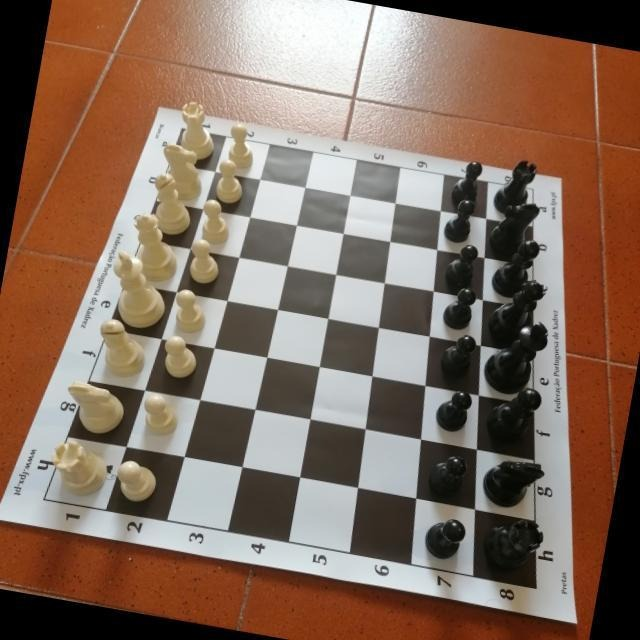black-bishop: (482, 380, 543, 447), (487, 233, 541, 303)
black-king: (479, 312, 551, 400)
black-knight: (478, 454, 546, 514), (486, 195, 541, 261)
black-pawn: (420, 513, 467, 562), (425, 451, 469, 499), (433, 385, 475, 434), (437, 330, 478, 378), (440, 283, 478, 332), (443, 240, 481, 288), (441, 195, 477, 245), (449, 158, 483, 206)
black-queen: (487, 272, 548, 345)
black-rook: (480, 512, 546, 576), (489, 154, 538, 219)
white-bishop: (91, 315, 152, 381), (145, 170, 198, 238)
white-king: (102, 247, 174, 332)
white-knight: (59, 378, 128, 438), (155, 140, 209, 204)
white-pawn: (112, 458, 160, 506), (138, 390, 182, 437), (158, 332, 201, 380), (169, 287, 210, 337), (196, 197, 235, 247), (185, 237, 223, 287), (224, 121, 260, 171), (212, 158, 248, 206)
white-queen: (122, 209, 185, 286)
white-rook: (44, 436, 112, 500), (172, 99, 222, 164)
